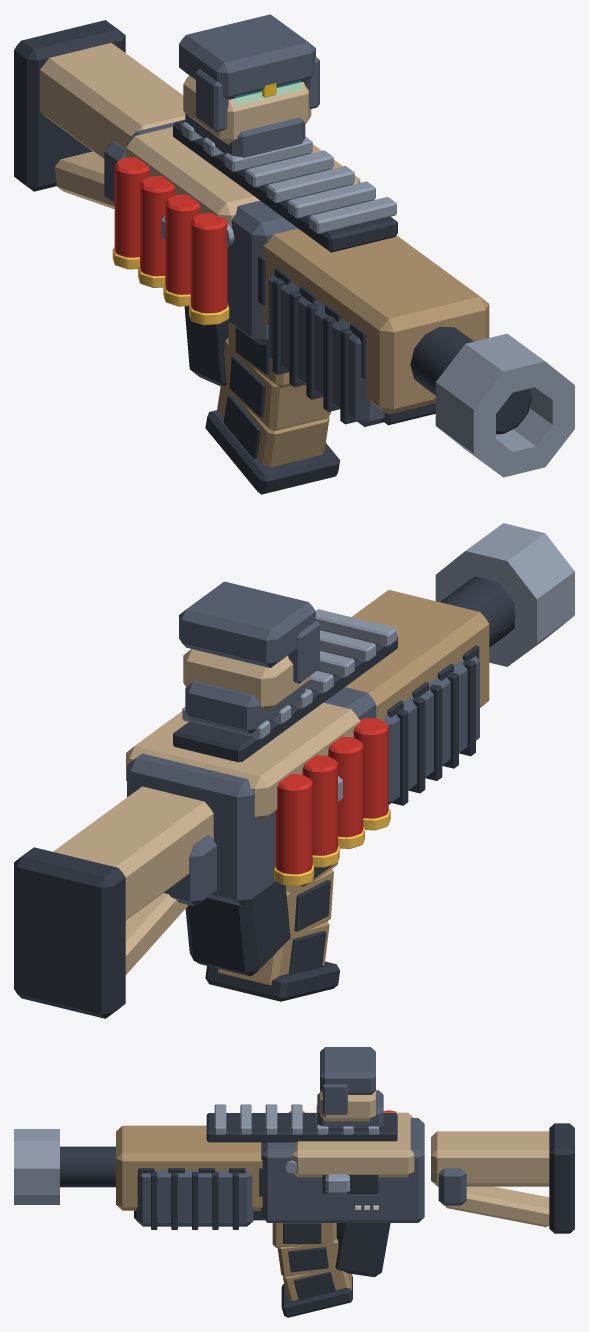
The model's file is Military_SG_v002.fbx.
The picture shows the model from 3 angles, top to bottom: view 1: azimuth 30°, elevation 25°; view 2: azimuth 150°, elevation 25°; view 3: azimuth 270°, elevation 25°; orthographic projection. The views are drawn at different scales.
Visible parts, largest first — view 1: Military_SG__RECEIVER_MESH, Military_SG__MAGAZINE_MESH; view 2: Military_SG__RECEIVER_MESH, Military_SG__MAGAZINE_MESH; view 3: Military_SG__RECEIVER_MESH, Military_SG__MAGAZINE_MESH.
Part boxes in pixels (x1=…): Military_SG__RECEIVER_MESH: x1=14, y1=14, x2=574, y2=477; Military_SG__MAGAZINE_MESH: x1=205, y1=322, x2=339, y2=494; Military_SG__RECEIVER_MESH: x1=14, y1=523, x2=574, y2=1018; Military_SG__MAGAZINE_MESH: x1=205, y1=863, x2=339, y2=1001; Military_SG__RECEIVER_MESH: x1=14, y1=1047, x2=574, y2=1277; Military_SG__MAGAZINE_MESH: x1=272, y1=1223, x2=352, y2=1317.
Bounding box in the file's own units: 0.5064 × 1.07 × 2.2.
